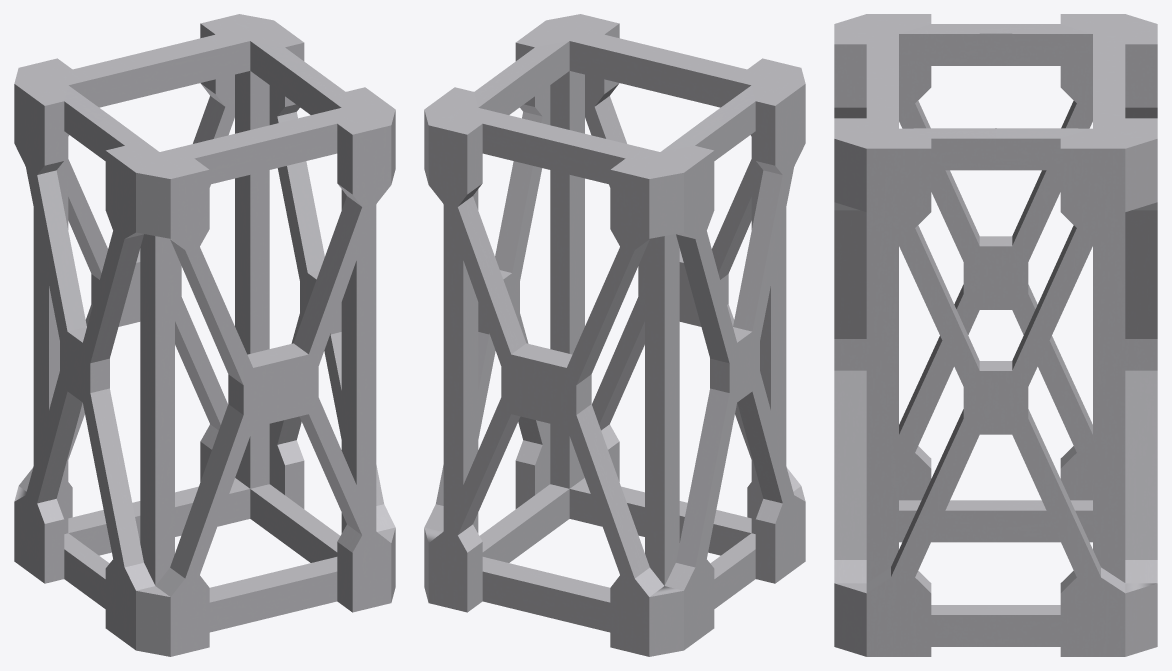
File: VerticalStrat_01.fbx
3 views of the same model, side by side, from view 1: azimuth 30°, elevation 25°; view 2: azimuth 150°, elevation 25°; view 3: azimuth 270°, elevation 25° (orthographic). The views are drawn at different scales.
Parts seen in each view (by area): view 1: VerticalStrat_01_snaps006; view 2: VerticalStrat_01_snaps006; view 3: VerticalStrat_01_snaps006.
Boxes of the visible parts, bbox=[...] form: VerticalStrat_01_snaps006: bbox=[14, 14, 395, 656]; VerticalStrat_01_snaps006: bbox=[424, 14, 805, 656]; VerticalStrat_01_snaps006: bbox=[834, 14, 1157, 656].
Size of the model in its own units: 0.0199 by 0.035 by 0.0202.
